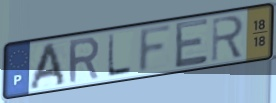A: (27, 40, 68, 92)
E: (174, 16, 210, 71)
F: (137, 21, 176, 76)
L: (105, 32, 134, 79)
R: (210, 13, 246, 65), (66, 35, 101, 86)
